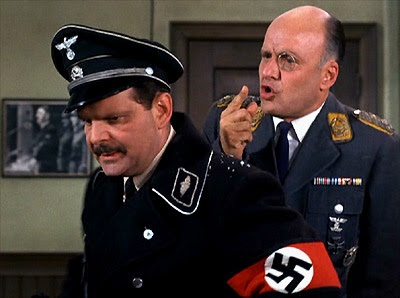bad: (71, 96, 146, 171)
